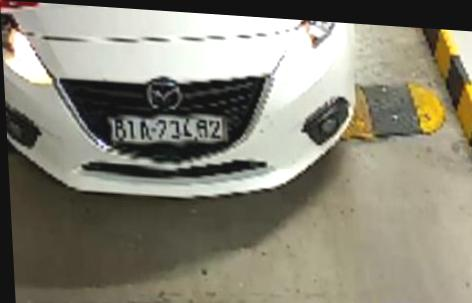License_Plate: (102, 101, 231, 152)
